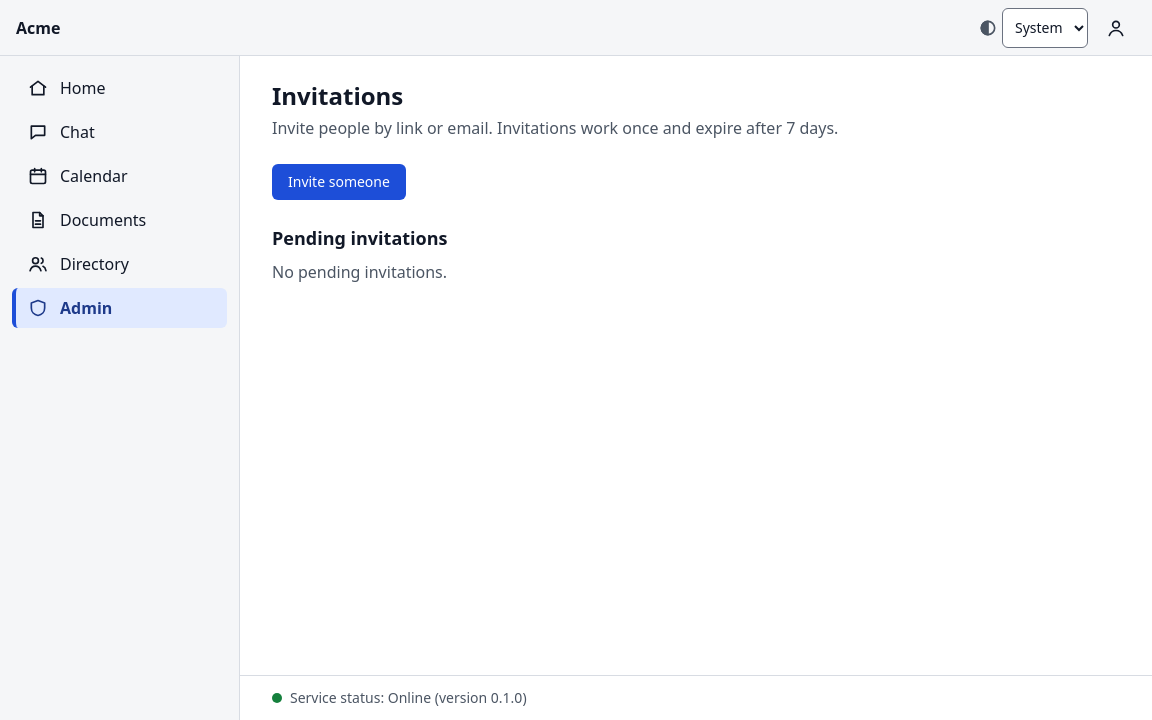
admin: invitations and email settings (Admin §3, §6) › explains the owners' invite gate
This screenshot has width=1152, height=720.
Click the button "Invite someone": (339, 182) 272,164 -> 406,200
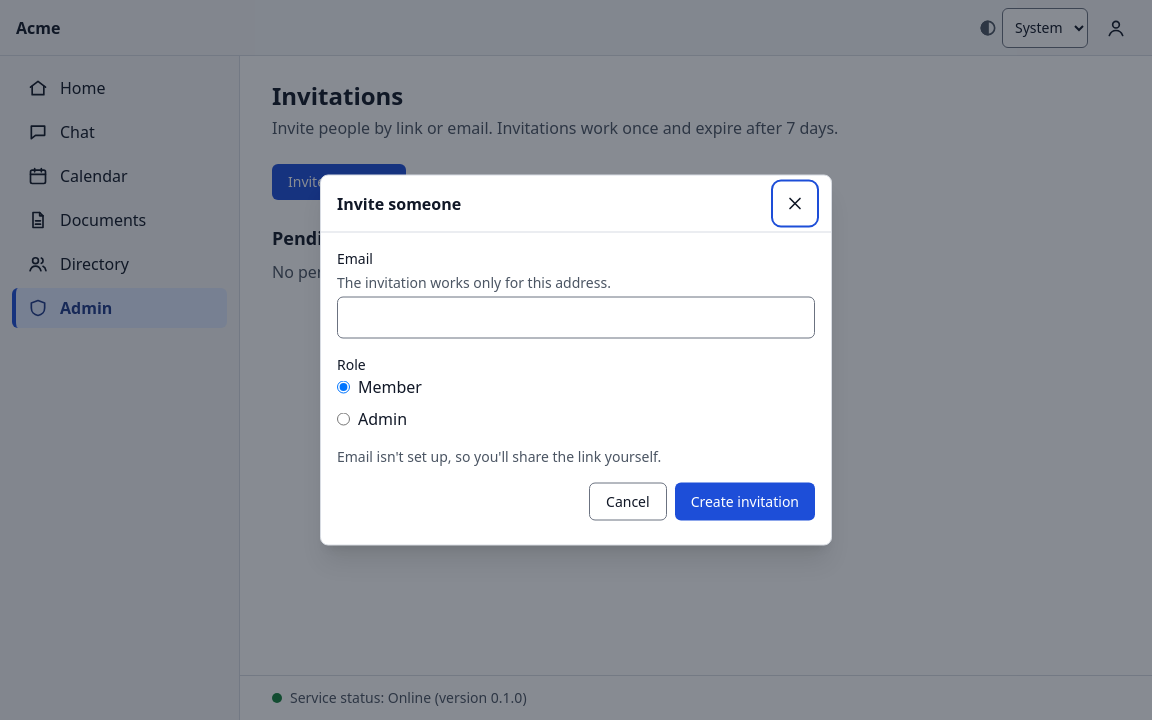
In the field labelled "Email": (576, 318) 337,296 -> 815,338, type "ana@example.com"
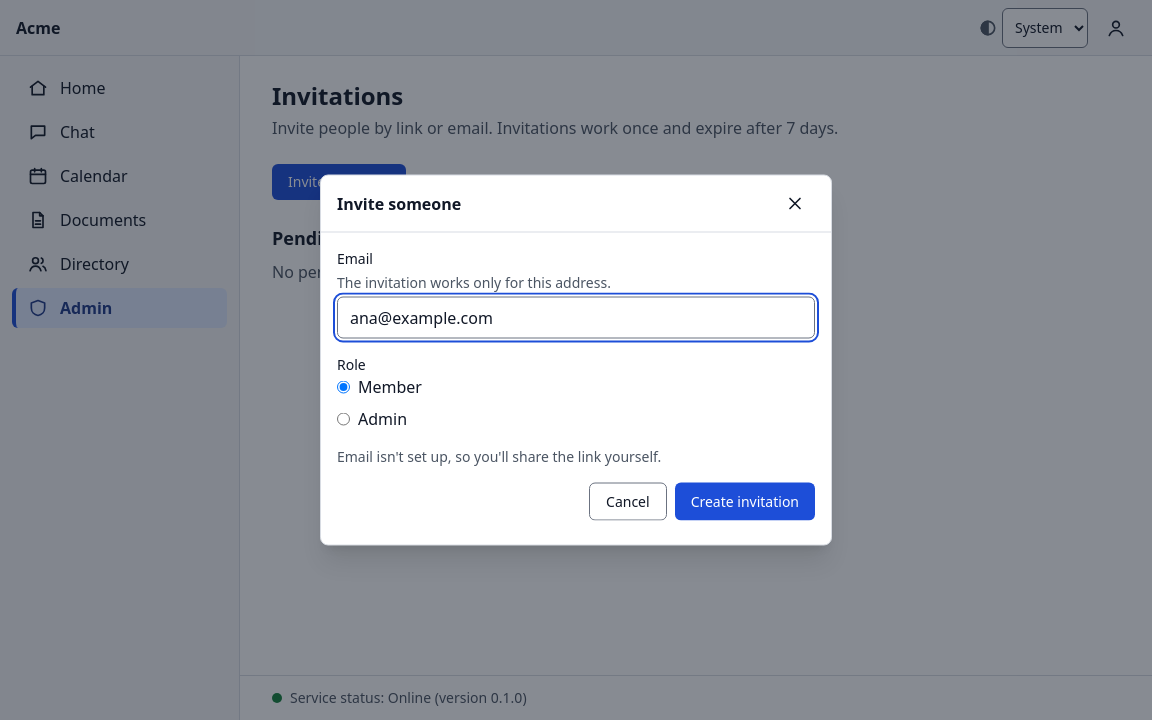
Click the button "Create invitation": (745, 502) 675,482 -> 815,520
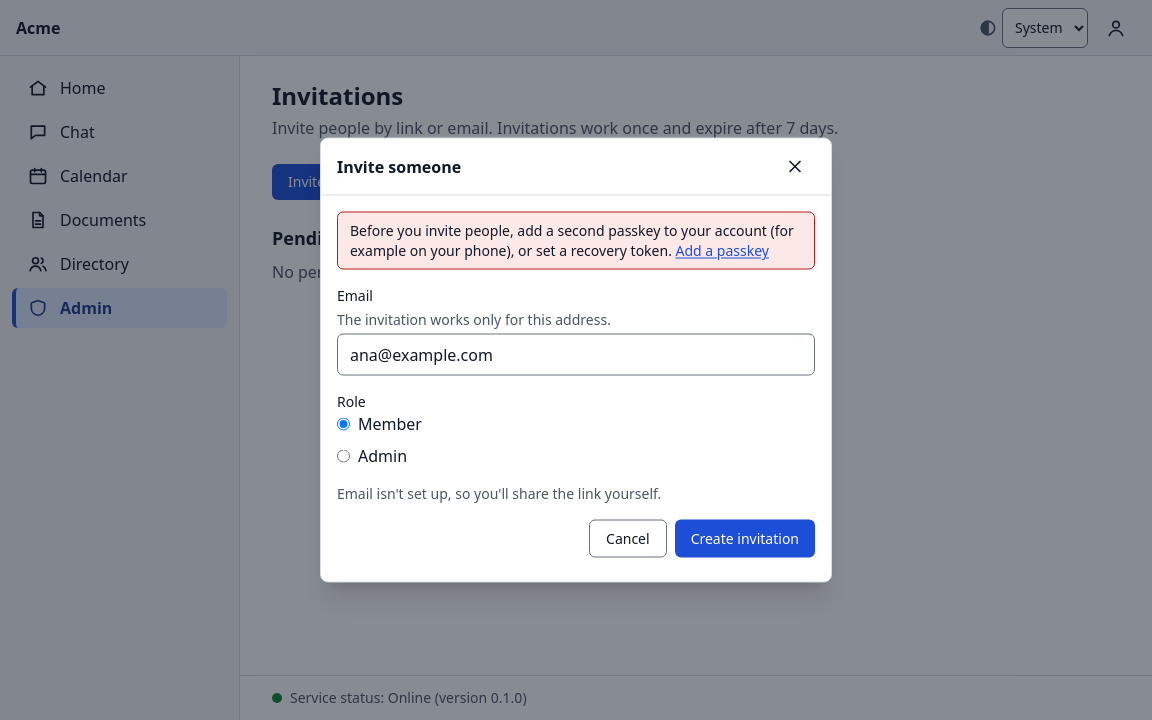
Expected: the text "Before you invite people, add a second passkey" is shown, 350,220 -> 794,260
